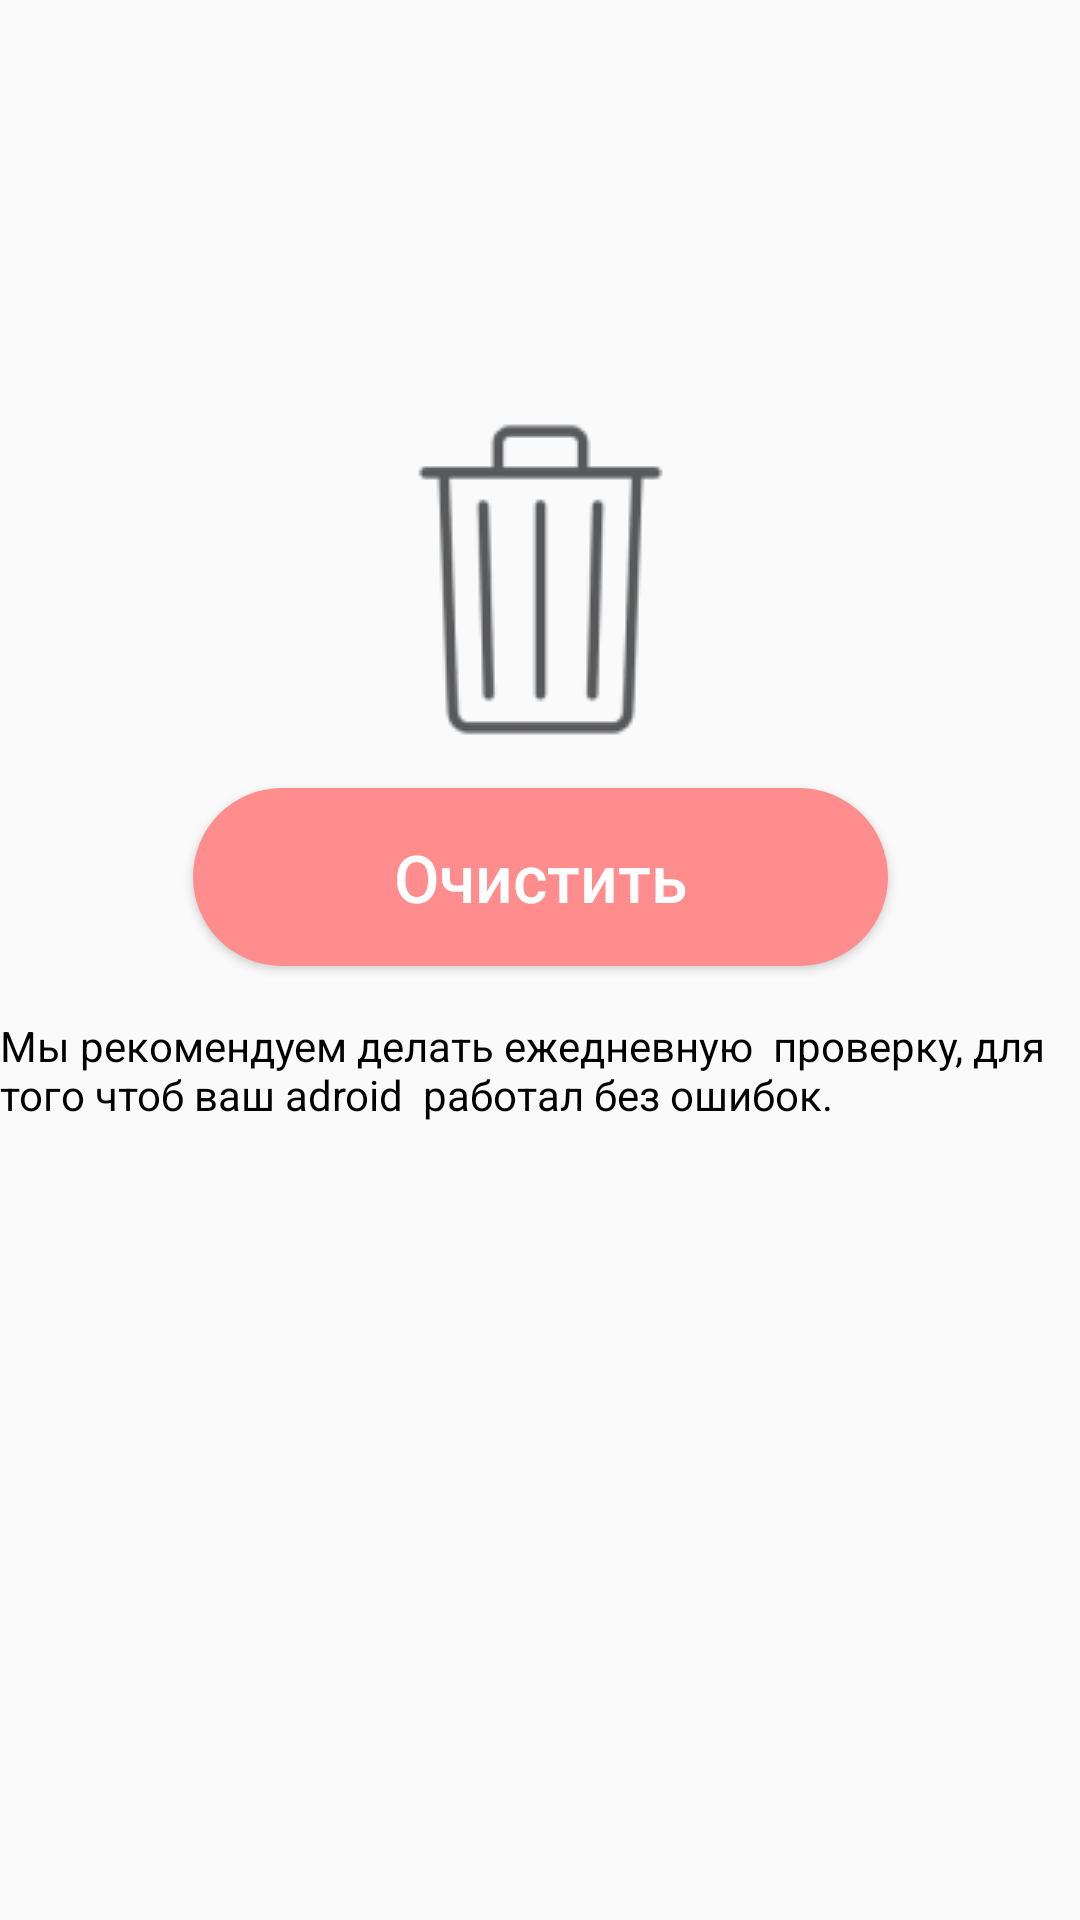

Icon bounding boxes for this 1080 x 1920 phone screenshot, format (x1, y1, x2, y2):
musor: (418, 424, 663, 735)
